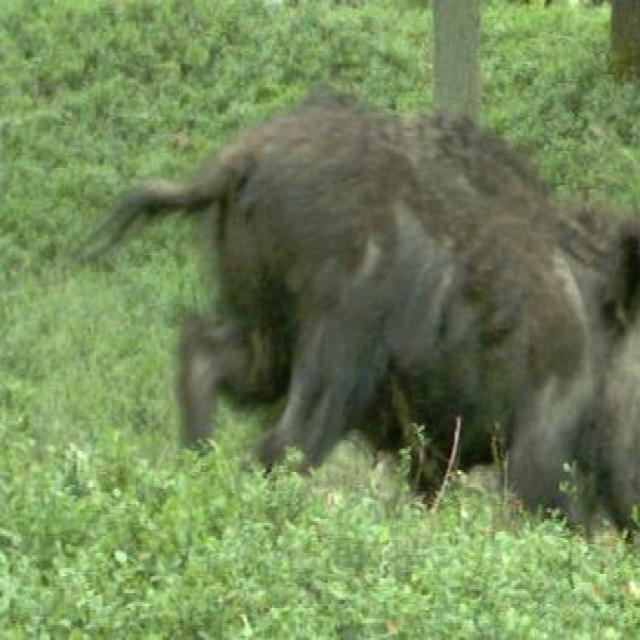pig: (114, 73, 637, 521)
